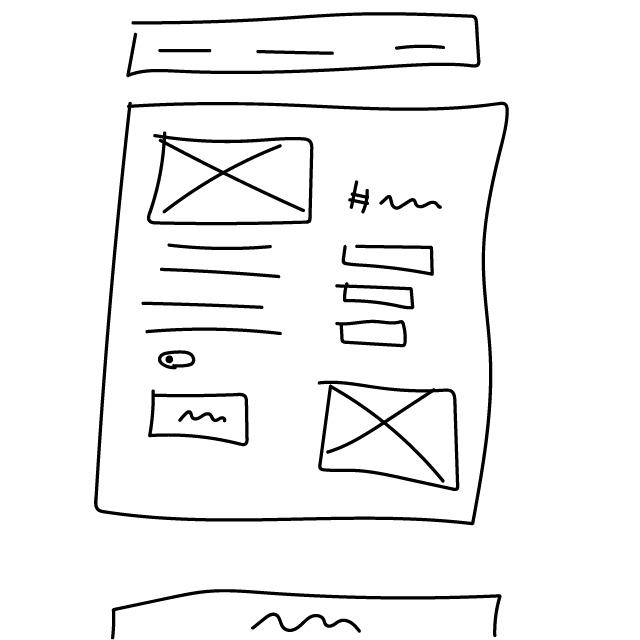button: (144, 387, 256, 450)
checkbox: (156, 349, 201, 374)
container: (83, 91, 526, 539)
footer: (104, 580, 513, 640)
frame: (312, 374, 467, 495), (146, 132, 322, 228)
heading: (344, 183, 448, 223)
input: (340, 240, 443, 281), (334, 316, 413, 349), (334, 282, 417, 312)
nav: (127, 10, 489, 78)
text: (137, 235, 285, 340)
